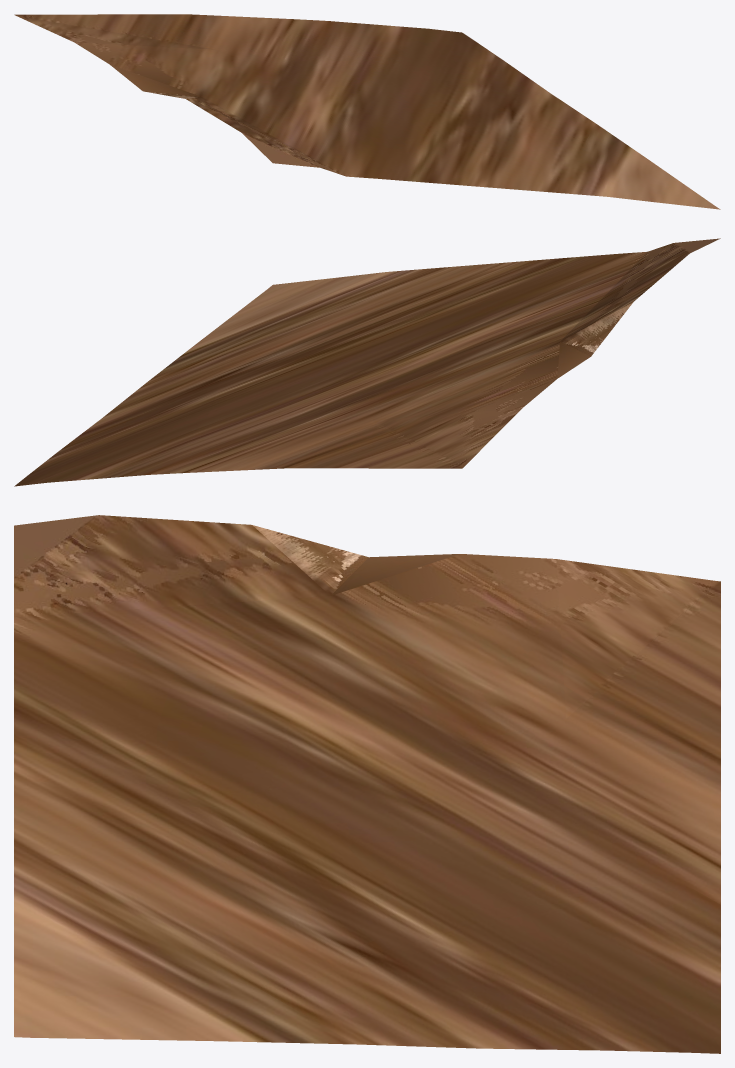
The picture shows the model from 3 angles, top to bottom: view 1: azimuth 30°, elevation 25°; view 2: azimuth 150°, elevation 25°; view 3: azimuth 270°, elevation 25°; orthographic projection. The views are drawn at different scales.
Size of the model in its own units: 1.04 by 0.3913 by 1.04.
Materials: 3 (3 with a texture image).
